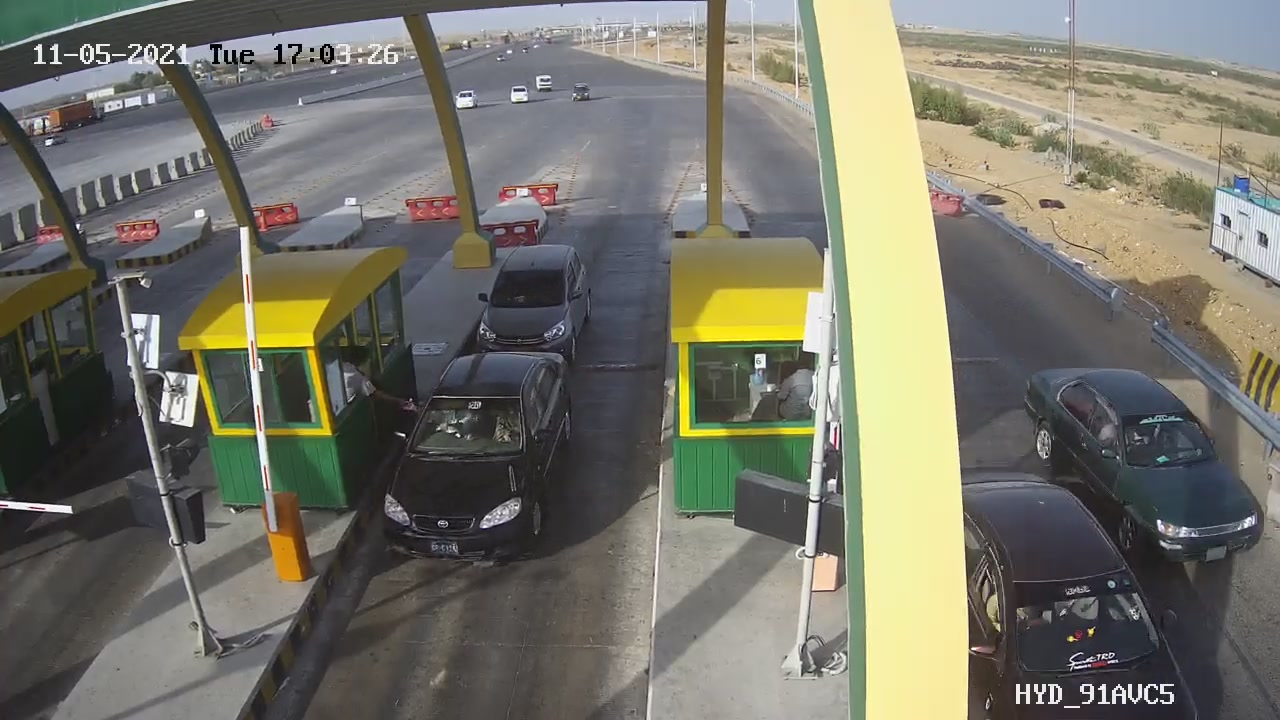F1: (353, 340, 612, 585), (450, 227, 627, 392)
